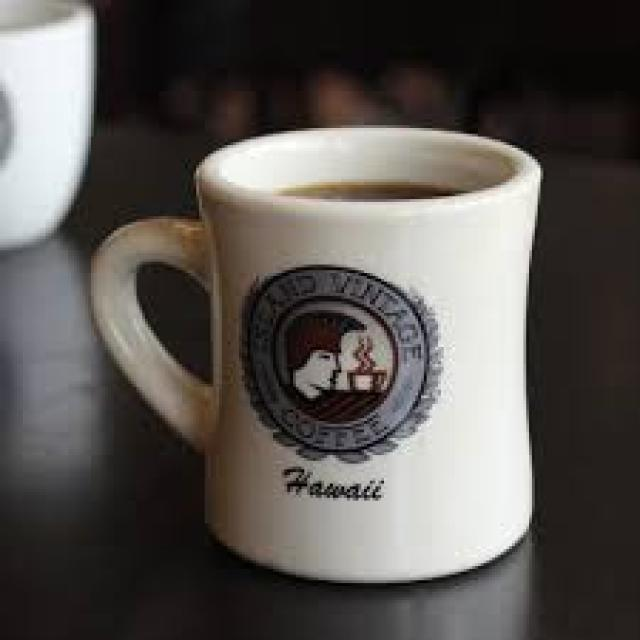taza: (89, 126, 542, 582)
